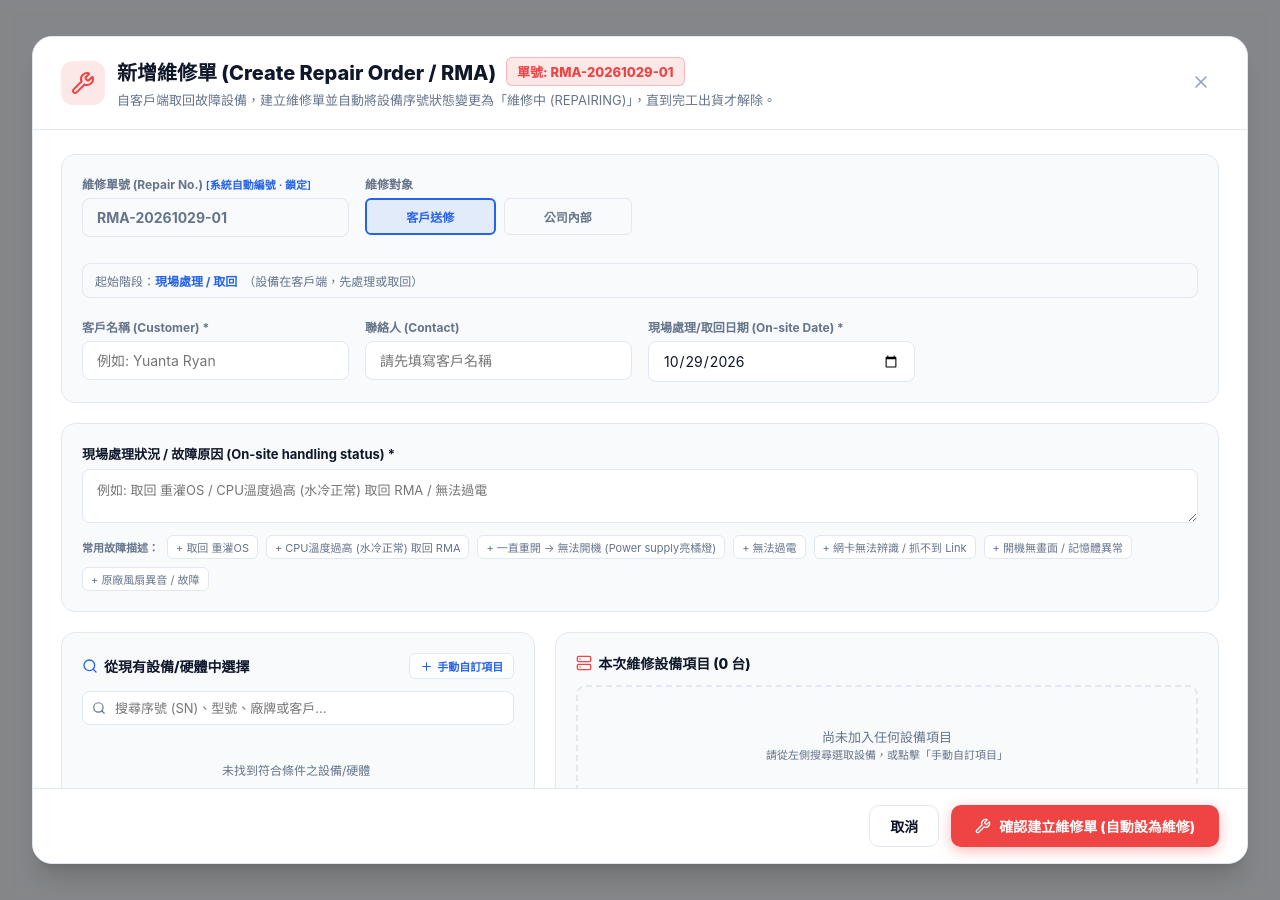
Test: 新增維修單：客戶與聯絡人 › 只有一位聯絡人時直接帶入，省一次點選
Type "單一聯絡人公司" into the field with placeholder "例如: Yuanta Ryan". click: (216, 360)
box: x1=82 y1=341 x2=349 y2=380
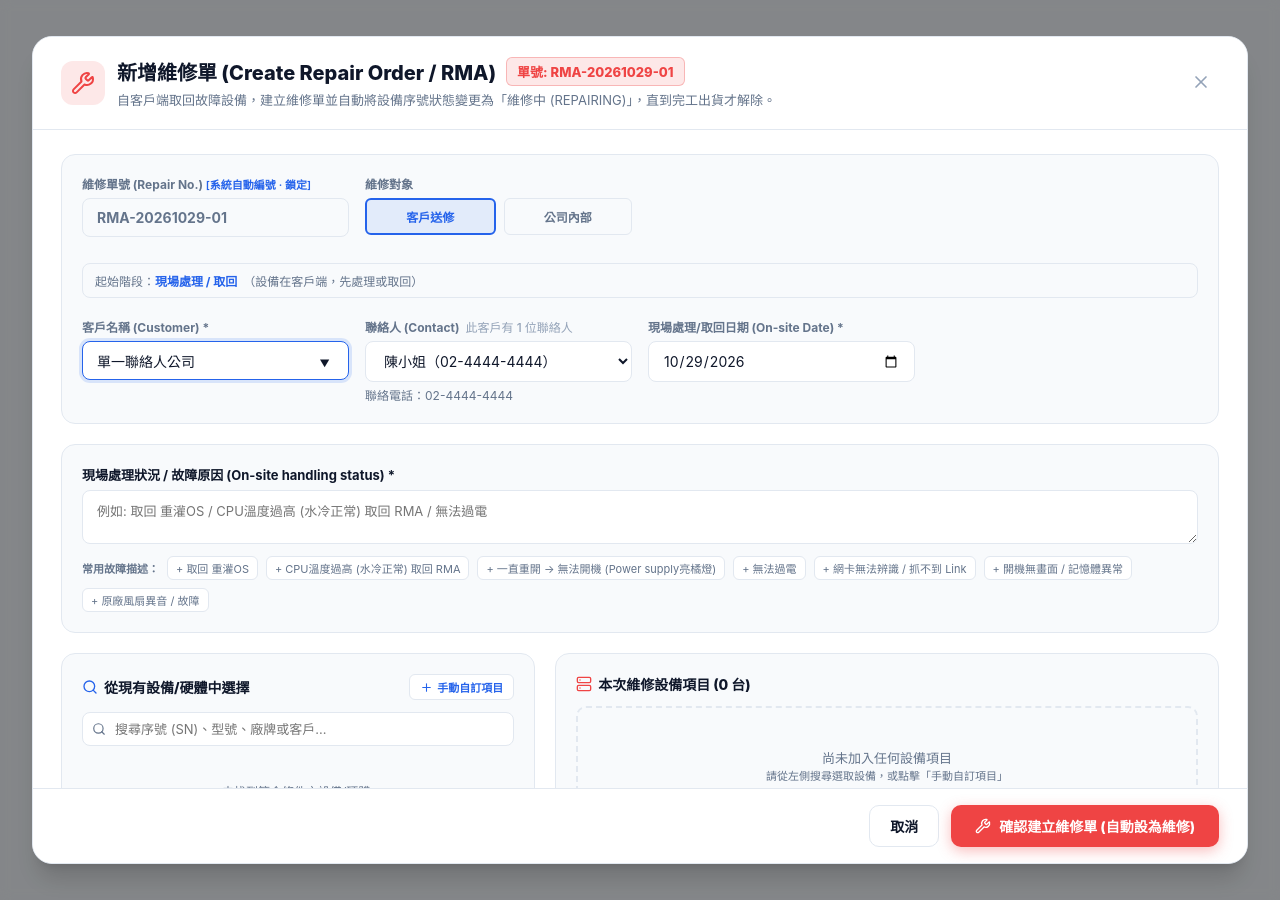
Result: the dropdown labelled "聯絡人 (Contact)此客戶有 1 位聯絡人" shows "陳小姐（02-4444-4444）" at x1=365 y1=341 x2=632 y2=382
